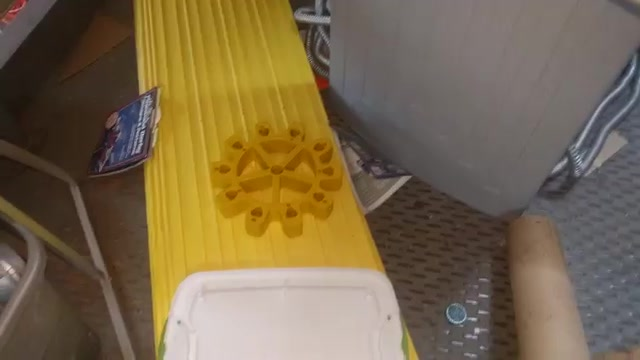gear: (194, 105, 357, 238)
